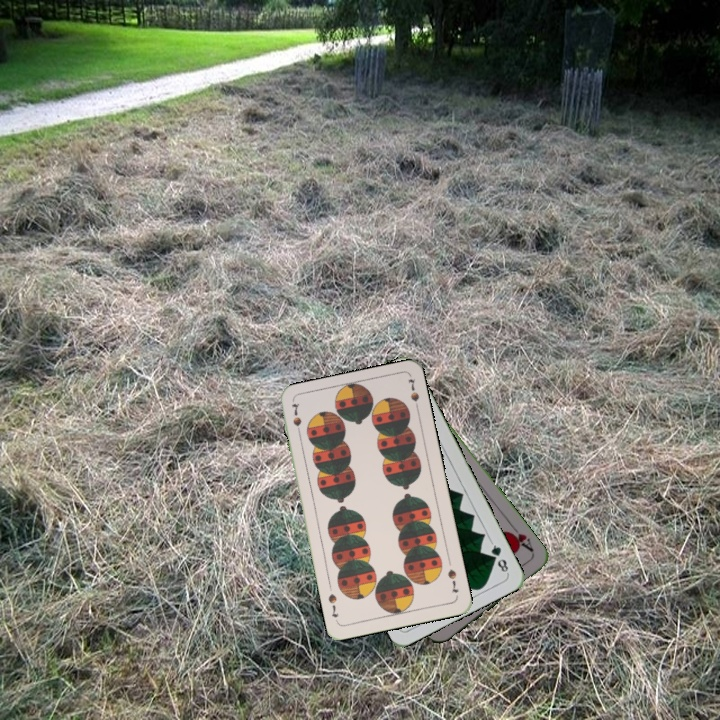G8: (487, 538, 511, 576)
HA: (504, 521, 536, 556)
S7: (288, 399, 304, 439), (443, 565, 461, 595)
